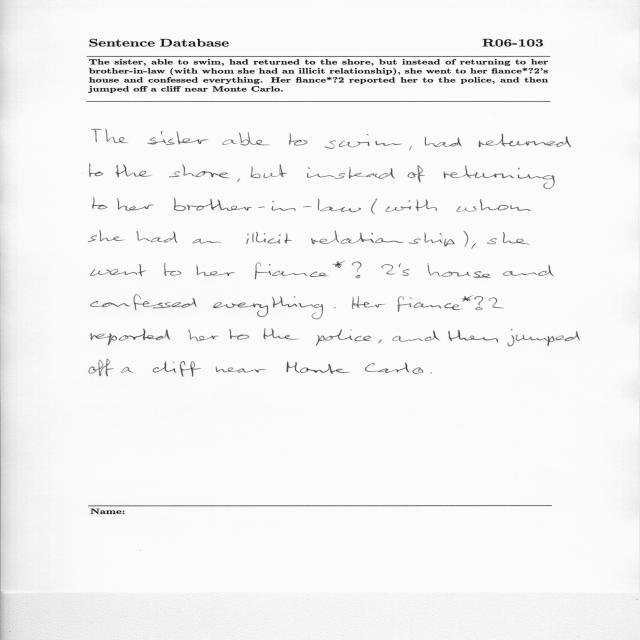word: (174, 197, 361, 212), (255, 261, 409, 279), (443, 166, 555, 189), (213, 297, 323, 320), (311, 230, 455, 247), (398, 295, 504, 312), (91, 295, 197, 310), (90, 329, 171, 345), (508, 329, 580, 346), (479, 134, 572, 147), (325, 134, 402, 149), (307, 167, 395, 179), (456, 199, 531, 212), (428, 263, 492, 278), (316, 329, 371, 346), (147, 131, 208, 145), (169, 164, 229, 178), (286, 361, 350, 374), (153, 361, 201, 377), (91, 264, 147, 276), (448, 330, 498, 343), (365, 363, 423, 374), (503, 265, 555, 277), (386, 200, 437, 212), (246, 232, 292, 244), (487, 232, 529, 245), (392, 331, 440, 342), (92, 129, 128, 143), (251, 165, 287, 179), (137, 231, 178, 243), (117, 198, 154, 211), (116, 165, 152, 178), (89, 230, 126, 242), (196, 265, 235, 276), (352, 296, 385, 309), (89, 359, 114, 376), (239, 132, 269, 146), (264, 329, 299, 340), (425, 137, 462, 147), (188, 330, 219, 341), (216, 367, 266, 373), (408, 165, 425, 182), (289, 133, 307, 146), (164, 263, 182, 276), (230, 329, 250, 340), (93, 197, 108, 209), (90, 164, 103, 177), (192, 239, 221, 244), (371, 199, 377, 215), (222, 139, 237, 145), (463, 231, 468, 248), (121, 367, 133, 373), (471, 243, 476, 249), (378, 340, 382, 344), (409, 146, 412, 151), (238, 179, 240, 183), (430, 372, 432, 374), (334, 307, 336, 308)
